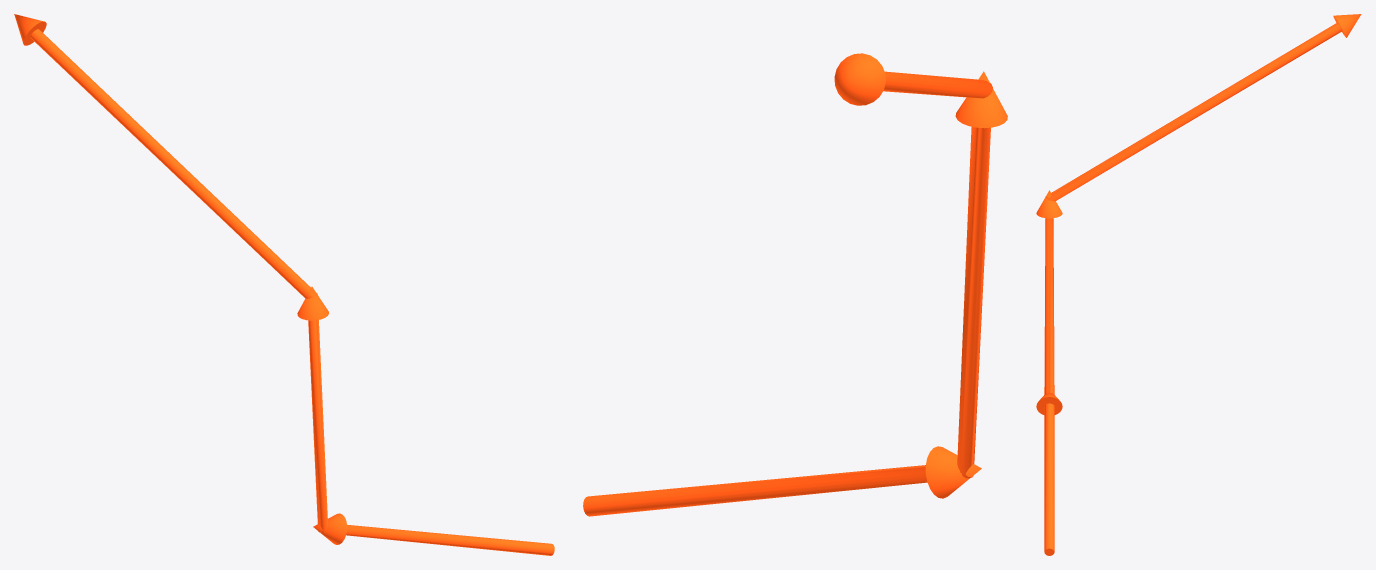
The model's file is m2p_hydraulic_excavator_flow.glb.
3 views of the same model, side by side, from view 1: azimuth 30°, elevation 25°; view 2: azimuth 150°, elevation 25°; view 3: azimuth 270°, elevation 25° (orthographic). The views are drawn at different scales.
Parts seen in each view (by area): view 1: cycle; view 2: cycle; view 3: cycle.
Boxes of the visible parts, left/top/right/bottom form: cycle: left=14, top=14, right=554, bottom=555; cycle: left=583, top=53, right=1007, bottom=516; cycle: left=1036, top=14, right=1361, bottom=555.
Size of the model in its own units: 6.69 by 8.8 by 6.43.
